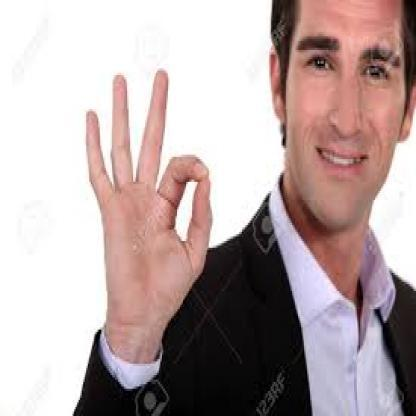ok: (84, 62, 216, 336)
